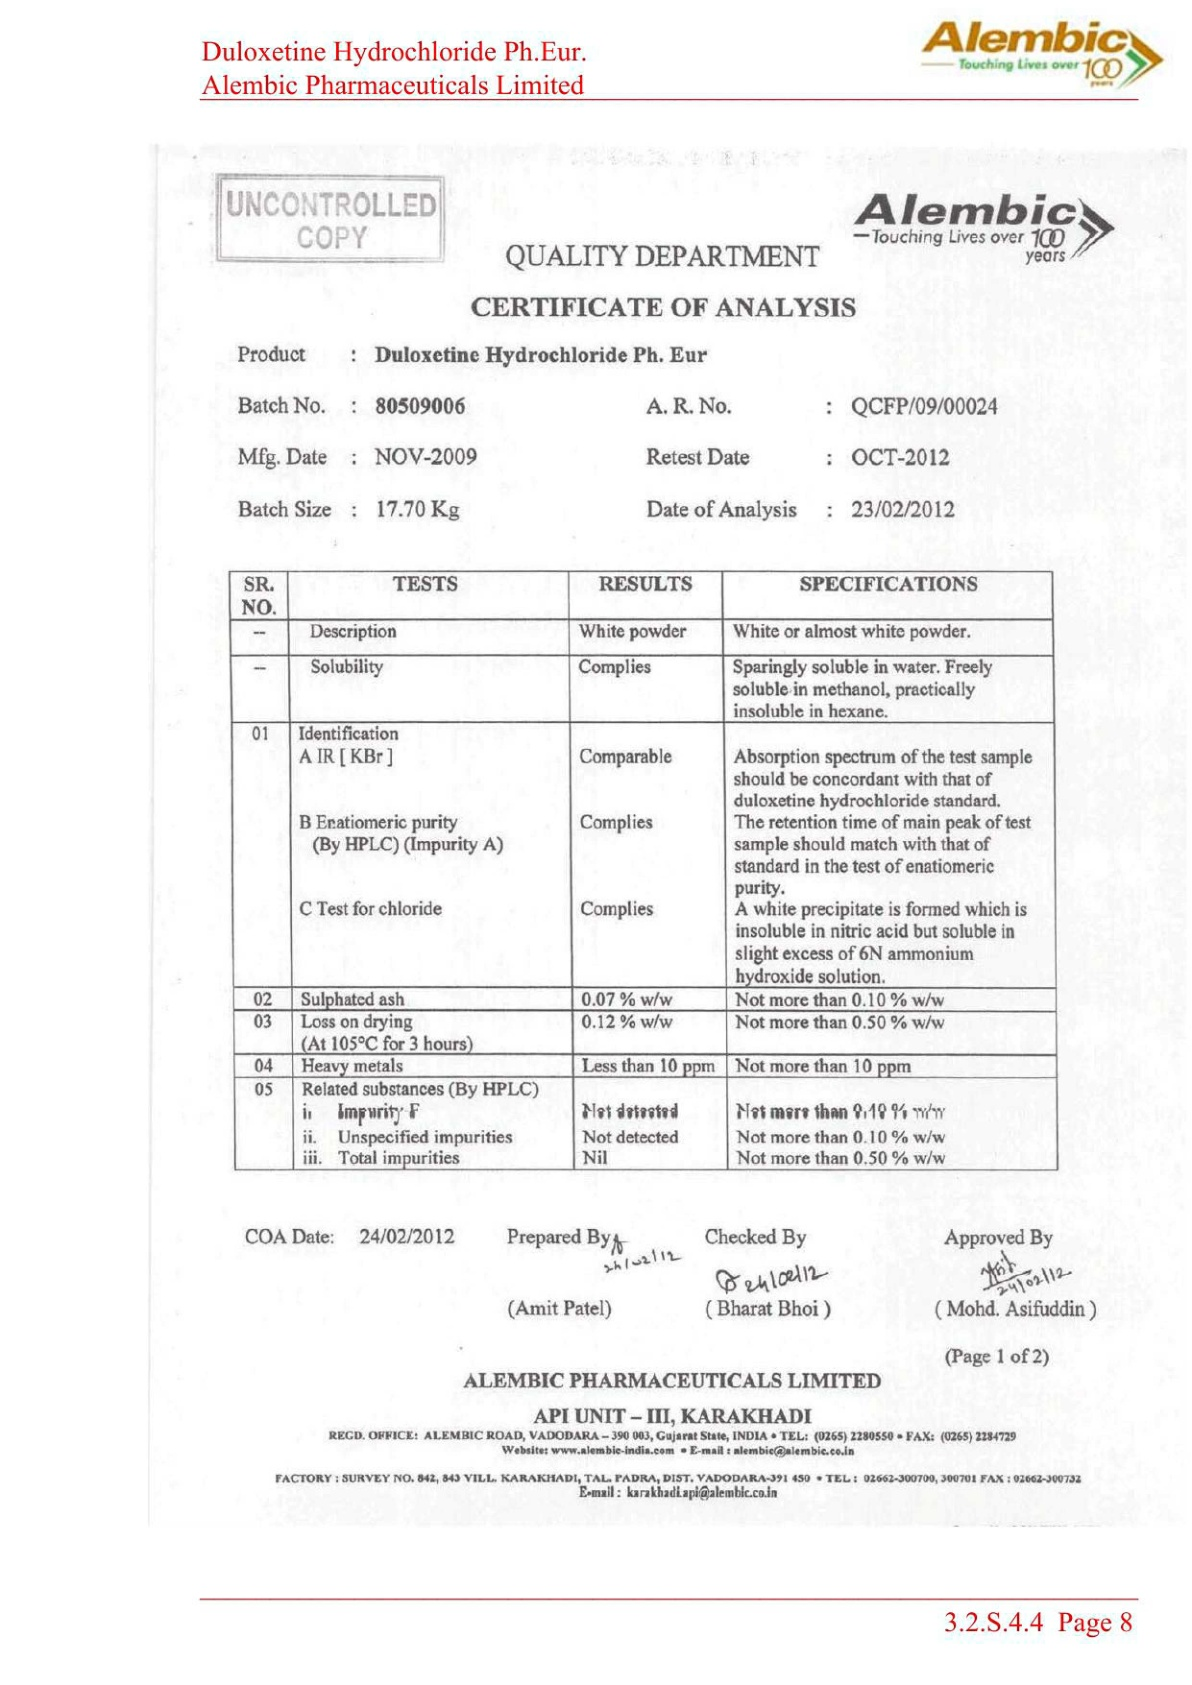full_lined: (227, 569, 1059, 1172)
nolines: (232, 341, 1002, 525)
